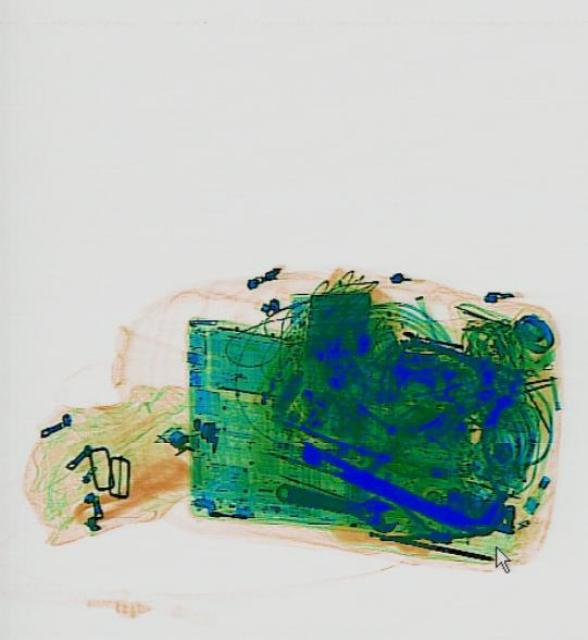Wrench: (271, 476, 399, 534)
